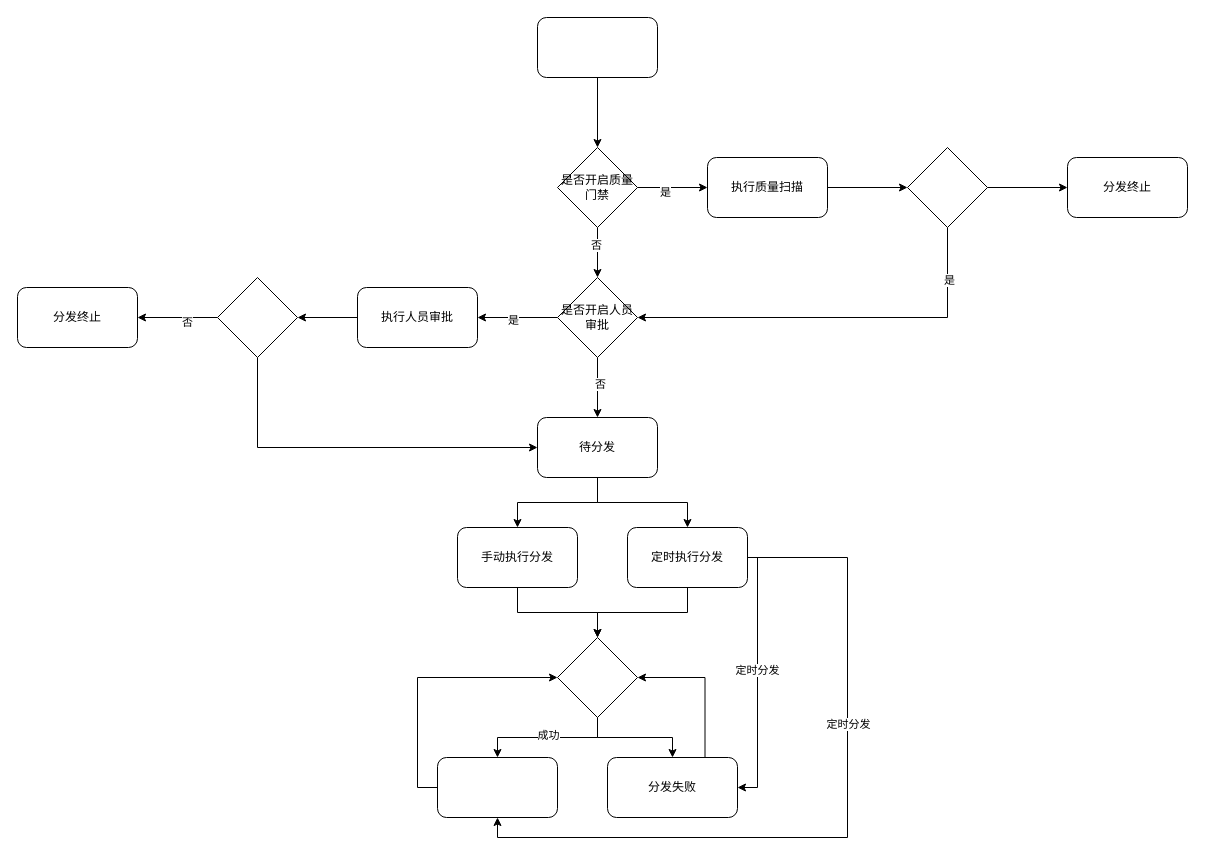
The diagram is 1205 pixels wide and 863 high, and some of its shapes have lost their labels. The centre of each missing label's shape, as x and y in pixels:
"人员审批是否成功" belongs at point 257,317.
"分发成功" belongs at point 497,787.
"创建或编辑分发配置" belongs at point 597,47.
"制品是否分发成功" belongs at point 597,677.
"质量扫描结果是否成功" belongs at point 947,187.
